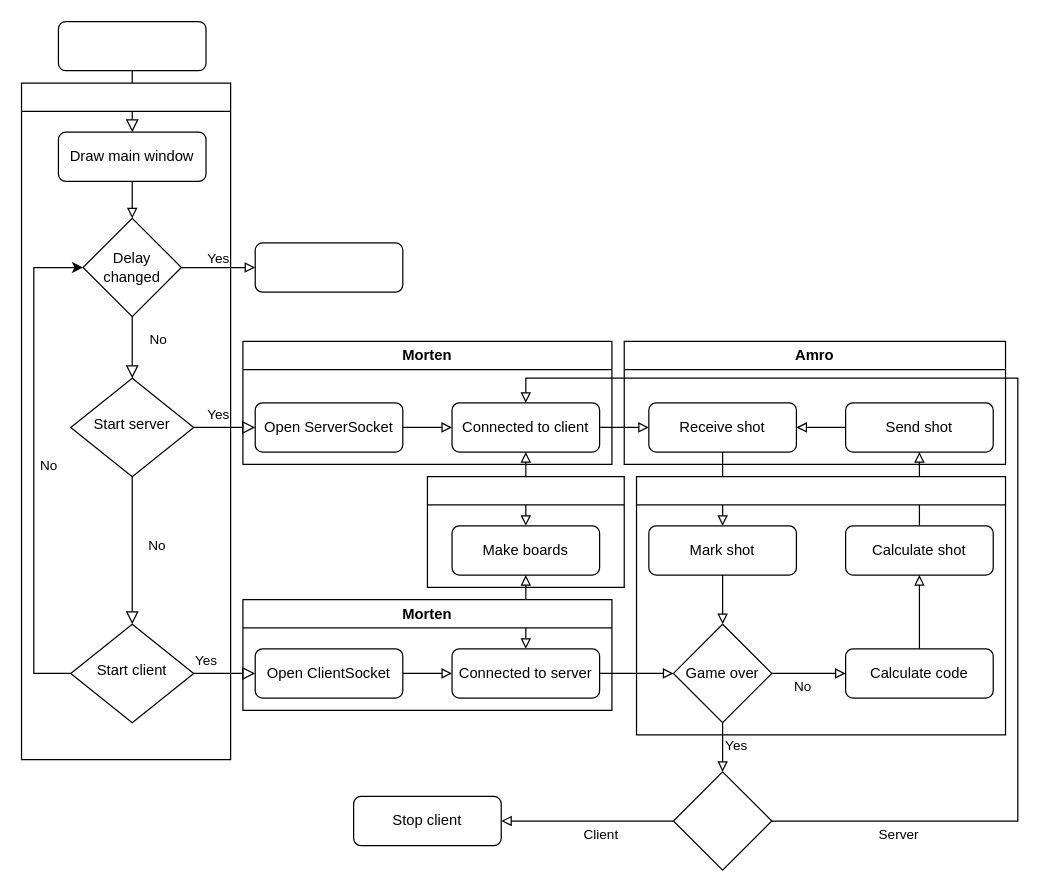
Image size: 1049x892. Some labels were removed from this diagram. The shapes that lost their labels are listed below. From the top down, each one's centre as x and y in pixels, then its label:
At point 131,45: "Start game".
At point 328,267: "Update delay".
At point 125,421: "Björn".
At point 525,531: "Alexandros".
At point 820,605: "Fahri".
At point 722,820: "Typ".
